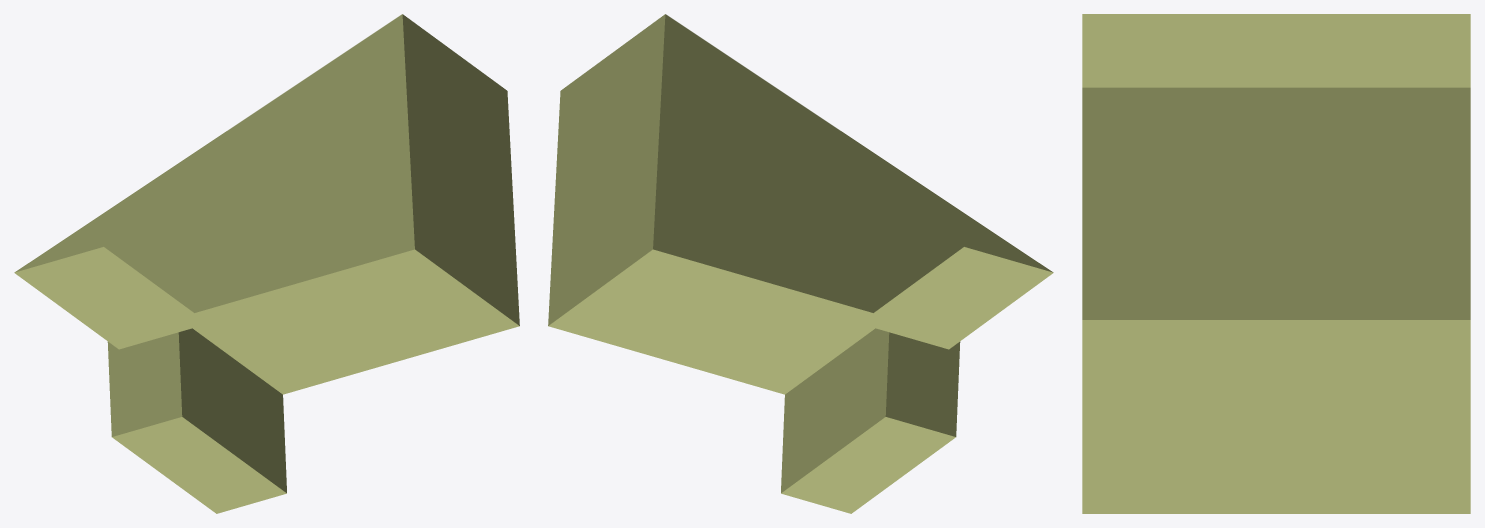
3 renders of one model, left to right at view 1: azimuth 30°, elevation 25°; view 2: azimuth 150°, elevation 25°; view 3: azimuth 270°, elevation 25°, orthographic. The views are drawn at different scales.
Visible parts, largest first — view 1: 0_3_2_3_1_1_2_1_1; view 2: 0_3_2_3_1_1_2_1_1; view 3: 0_3_2_3_1_1_2_1_1.
Part boxes in pixels (x1=…): 0_3_2_3_1_1_2_1_1: x1=14, y1=14, x2=519, y2=513; 0_3_2_3_1_1_2_1_1: x1=548, y1=14, x2=1053, y2=513; 0_3_2_3_1_1_2_1_1: x1=1082, y1=14, x2=1470, y2=513.
Bounding box in the file's own units: 13.24 × 11.11 × 6.
